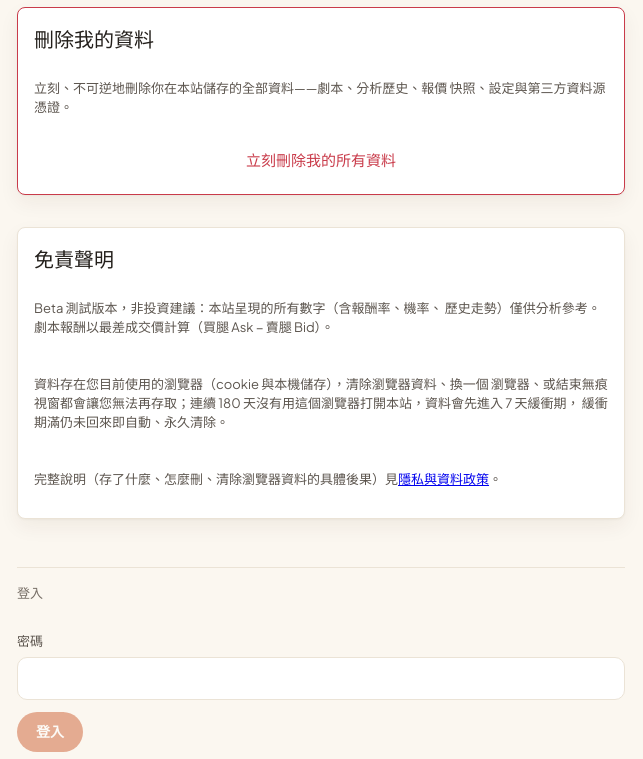
Test case: 三層角色登入（AUTH-06／#313） › 密碼錯誤時顯示錯誤、不會誤登入
(page scrolled)
Type "wrong-password" into the password field labelled "密碼" at (321, 678), box x1=17 y1=656 x2=625 y2=700
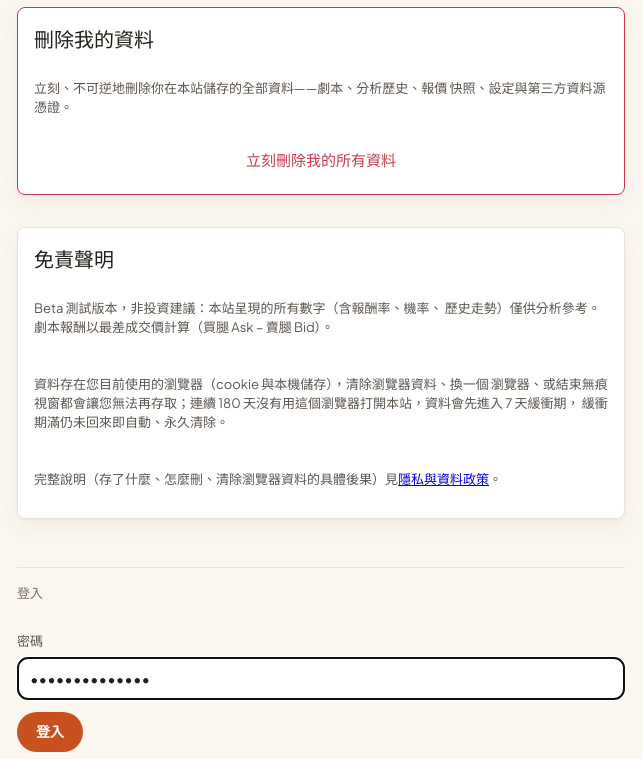
Click the button "登入" at (50, 732), box x1=17 y1=712 x2=83 y2=752
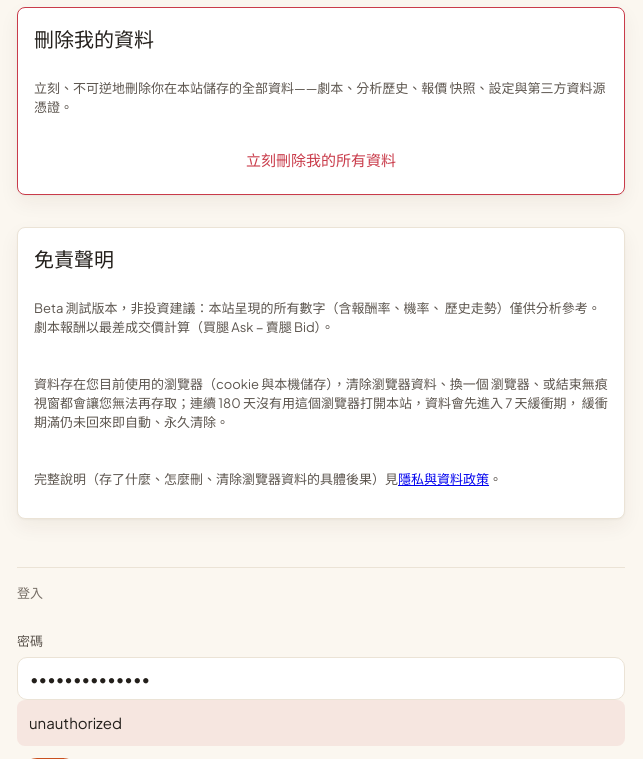
Expected: the message "unauthorized" is shown, x1=17 y1=700 x2=625 y2=746
